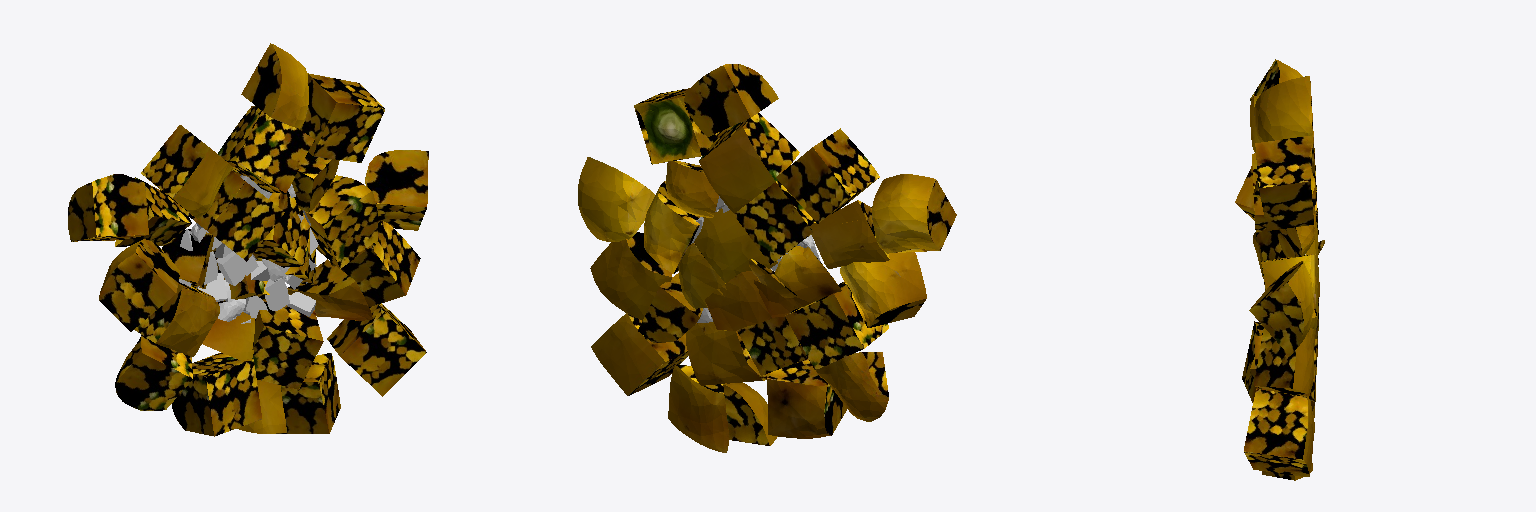
3 renders of one model, left to right at view 1: azimuth 30°, elevation 25°; view 2: azimuth 150°, elevation 25°; view 3: azimuth 270°, elevation 25°, orthographic.
Parts seen in each view (by area): view 1: Deboned_Bok_choy_undefined_portobello_mushroom.029; view 2: Deboned_Bok_choy_undefined_portobello_mushroom.029; view 3: Deboned_Bok_choy_undefined_portobello_mushroom.029.
Part boxes in pixels (x1,y1,x2,y2): Deboned_Bok_choy_undefined_portobello_mushroom.029: (68,43,428,436); Deboned_Bok_choy_undefined_portobello_mushroom.029: (578,64,956,452); Deboned_Bok_choy_undefined_portobello_mushroom.029: (1235,59,1324,480).
Bounding box in the file's own units: 6417 × 6671 × 1406.
2 materials, 1 textured.